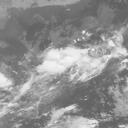cyclone: (35, 41, 95, 97)
